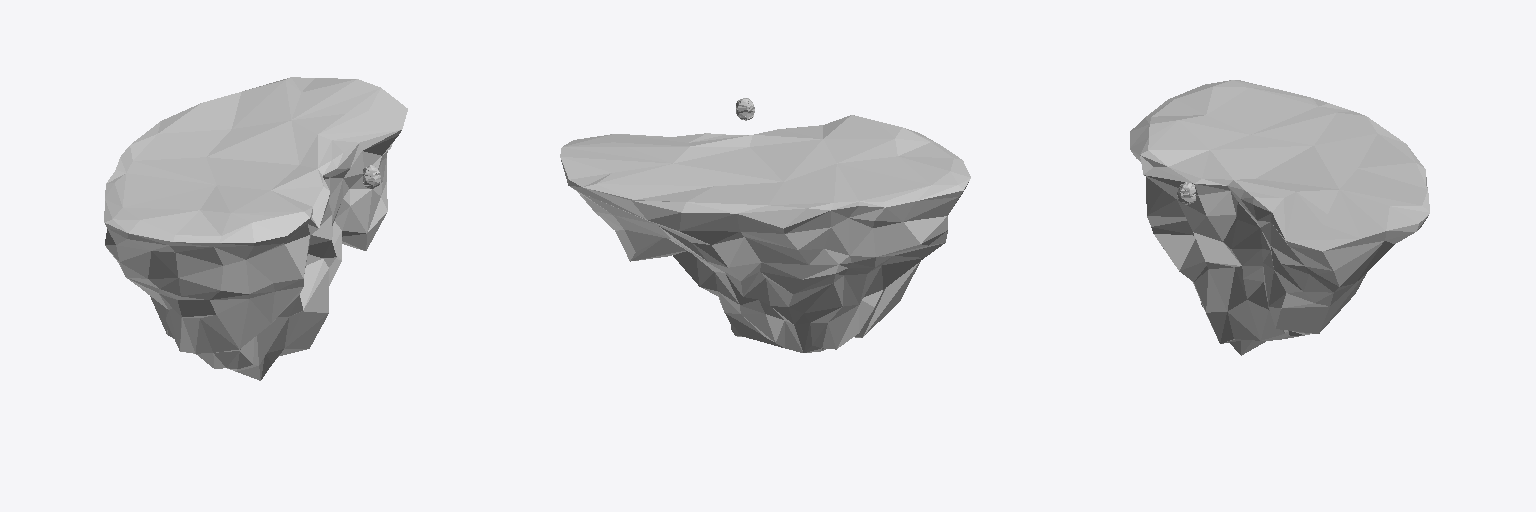
File: bush.obj
3 views of the same model, side by side, from view 1: azimuth 30°, elevation 25°; view 2: azimuth 150°, elevation 25°; view 3: azimuth 270°, elevation 25° (orthographic).
Visible parts, largest first — view 1: Island.003_Plane.009; view 2: Island.003_Plane.009; view 3: Island.003_Plane.009.
Part boxes in pixels (x1,y1,x2,y2): Island.003_Plane.009: (104,77,407,380); Island.003_Plane.009: (560,115,970,352); Island.003_Plane.009: (1130,80,1429,355).
Bounding box in the file's own units: 38.79 × 22.88 × 29.1.